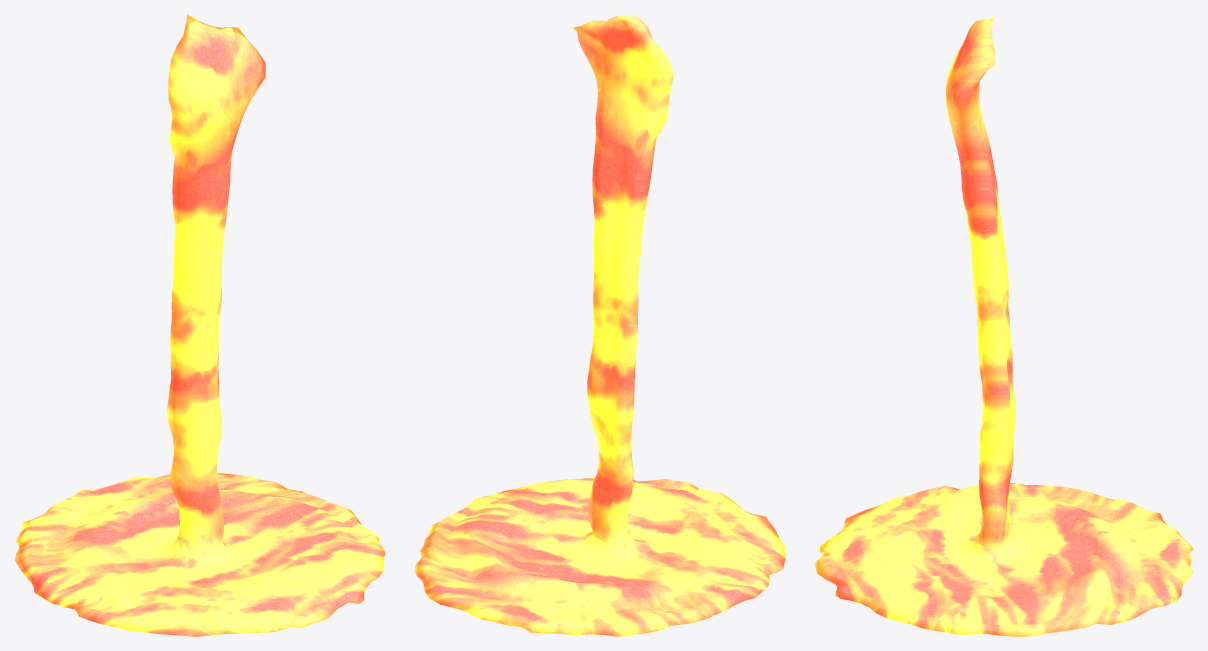
Rendered from LavaFall.glb.
The picture shows the model from 3 angles, left to right: view 1: azimuth 30°, elevation 25°; view 2: azimuth 150°, elevation 25°; view 3: azimuth 270°, elevation 25°; orthographic projection. The views are drawn at different scales.
Parts seen in each view (by area): view 1: L1LR; view 2: L1LR; view 3: L1LR.
Part boxes in pixels (bbox=[...]): L1LR: bbox=[14, 14, 385, 636]; L1LR: bbox=[414, 14, 785, 636]; L1LR: bbox=[814, 15, 1193, 636].
Bounding box in the file's own units: 6.2 × 10.21 × 6.47.
1 material, 1 textured.
